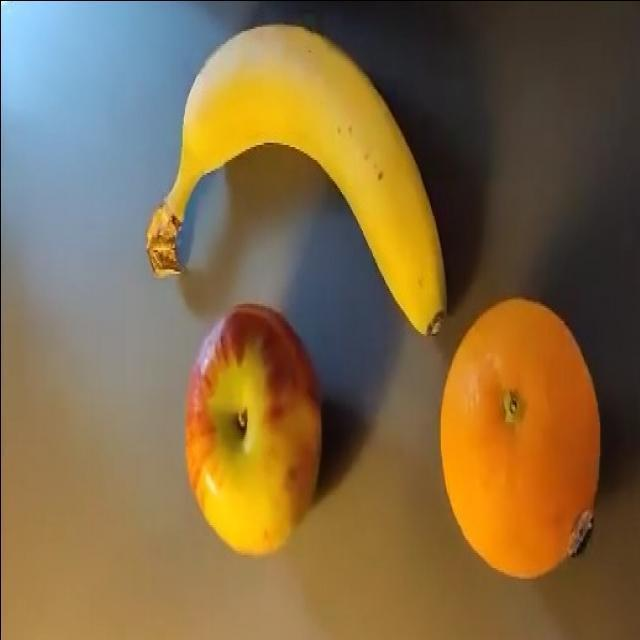Apple: (183, 302, 323, 557)
Banana: (145, 22, 448, 336)
Orange: (438, 296, 601, 580)
